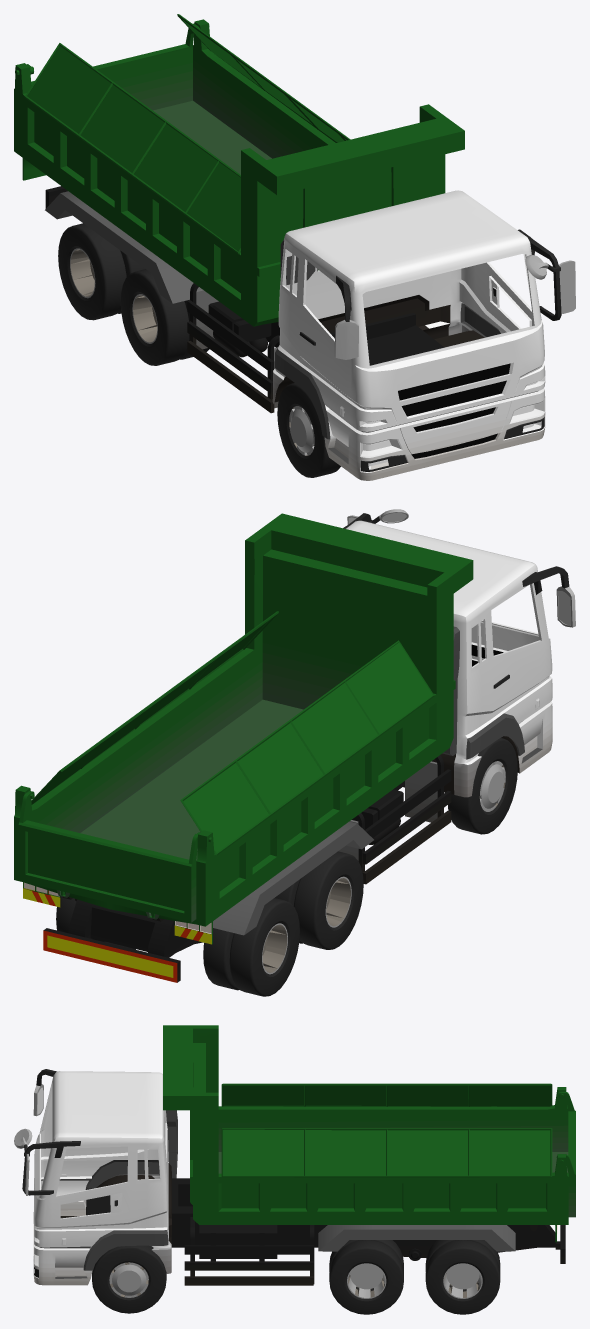
File: truck.glb
The picture shows the model from 3 angles, top to bottom: view 1: azimuth 30°, elevation 25°; view 2: azimuth 150°, elevation 25°; view 3: azimuth 270°, elevation 25°; orthographic projection. The views are drawn at different scales.
Parts seen in each view (by area): view 1: Cabin_4, Dump Box_7, Boards_5, Platform_8, Wheel R-2-r_14, Wheel R-1-r_12, Door_6, Wheel F-r_10; view 2: Dump Box_7, Boards_5, Cabin_4, Platform_8, Door_6, Wheel R-2-r_14, Wheel R-1-r_12, Wheel F-r_10, Cabin.001_1; view 3: Dump Box_7, Cabin_4, Boards_5, Platform_8, Wheel R-2-L_13, Wheel R-1-L_11, Wheel F-l_9, Door_6, Cabin.001_1.
Part boxes in pixels (left/top/right/bottom): Cabin_4: left=272, top=190, right=575, bottom=480; Dump Box_7: left=14, top=19, right=464, bottom=326; Boards_5: left=24, top=14, right=350, bottom=254; Platform_8: left=45, top=186, right=444, bottom=413; Wheel R-2-r_14: left=58, top=223, right=145, bottom=320; Wheel R-1-r_12: left=120, top=269, right=209, bottom=365; Door_6: left=15, top=23, right=199, bottom=110; Wheel F-r_10: left=277, top=383, right=340, bottom=477; Dump Box_7: left=14, top=513, right=473, bottom=944; Boards_5: left=31, top=611, right=434, bottom=855; Cabin_4: left=343, top=509, right=575, bottom=797; Platform_8: left=43, top=755, right=451, bottom=982; Door_6: left=15, top=791, right=213, bottom=922; Wheel R-2-r_14: left=203, top=898, right=299, bottom=996; Wheel R-1-r_12: left=275, top=851, right=363, bottom=949; Wheel F-r_10: left=448, top=738, right=517, bottom=834; Cabin.001_1: left=442, top=626, right=459, bottom=755; Dump Box_7: left=163, top=1025, right=568, bottom=1251; Cabin_4: left=14, top=1069, right=171, bottom=1285; Boards_5: left=221, top=1083, right=552, bottom=1177; Platform_8: left=86, top=1178, right=565, bottom=1285; Wheel R-2-L_13: left=425, top=1240, right=500, bottom=1314; Wheel R-1-L_11: left=329, top=1240, right=403, bottom=1314; Wheel F-l_9: left=92, top=1245, right=166, bottom=1313; Door_6: left=556, top=1091, right=575, bottom=1217; Cabin.001_1: left=166, top=1110, right=177, bottom=1178.
Size of the model in its own units: 3.13 by 3.66 by 8.54.
Materials: 2 (2 with a texture image).
